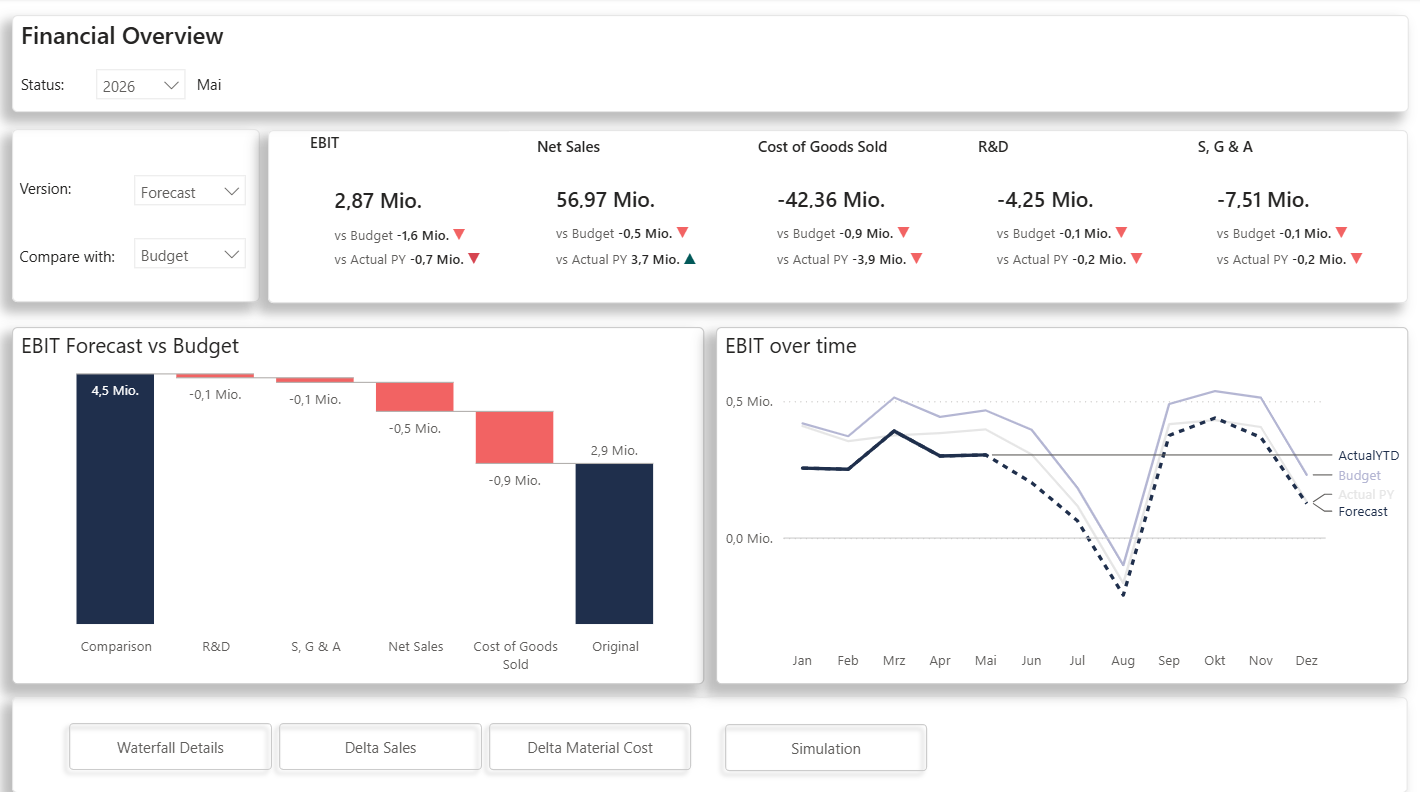

The page's visual inventory and layout, read from the dashboard file:
{"tool":"powerbi","page":{"name":"Financial Overview","canvas":[1280,720],"ordinal":0},"visuals":[{"type":"textbox","title":"Financial Overview","box":[15,15,1249.9,87.1],"z":0},{"type":"cardVisual","title":"Card Month","fields":{"Data":["fact_calculated.Last Actual Month Name"]},"box":[165.5,53.8,110,45],"z":1000},{"type":"slicer","title":"Slicer Year","fields":{"Values":["dim_date2.Date Hierarchie.Year"]},"box":[80.5,53.8,100,45],"z":2000},{"type":"shape","title":"Box Filter","box":[15.3,117.7,221.9,155],"z":3000},{"type":"textbox","title":"Text Version","box":[17,156.8,67,31.5],"z":4000},{"type":"textbox","title":"Text Comparison","box":[17,217.4,105,30.9],"z":5000},{"type":"slicer","title":"Slicer Compare","fields":{"Values":["Comparison Version.Version"]},"box":[115,205.2,120,45],"z":6000},{"type":"slicer","title":"Slicer Original Version","fields":{"Values":["Original Version.Version"]},"box":[115,148.3,120,45],"z":7000},{"type":"cardVisual","title":"Karte Financials","fields":{"Data":["Metrics.mOriginalAmount"],"Rows":["dim_pnl_structure.PnL_Level2_Name"]},"box":[460,119,820,180],"z":8000},{"type":"cardVisual","title":"EBIT","fields":{"Data":["Metrics.mOriginalAmount"]},"box":[282,120,188.1,180],"z":9000},{"type":"shape","title":"Box Cards","box":[244.9,118.6,1019.8,155],"z":10000},{"type":"waterfallChart","fields":{"Y":["Comparison Version.WF Value"],"Category":["helper_WaterfallCategory.Category"],"Breakdown":["dim_pnl_structure.PnL_Hierarchy.PnL_Level2_Name"]},"box":[15,294.5,620,320],"z":11000},{"type":"lineChart","fields":{"Y":["Metrics.mAmountPY","Metrics.mAmountBudget","Metrics.mAmountForecast","Metrics.mAmountActualYTD"],"Category":["dim_date2.Date Hierarchie.Month Name"]},"box":[644.8,294.5,620.1,320],"z":12000},{"type":"shape","title":"Box Navigation","box":[15,626.3,1249,86.7],"z":13000},{"type":"actionButton","title":"Waterfall Details","box":[57.1,640,199.7,60.1],"z":14000},{"type":"actionButton","title":"Delta Sales by PG","box":[245.6,640,199.7,60.1],"z":15000},{"type":"actionButton","title":"Delta Material Cost","box":[433.7,640,199,60.3],"z":16000},{"type":"actionButton","title":"Simulation","box":[644,640.9,199,60.3],"z":17000}]}

Visuals, with their boxes in screenshot pixels (x1, y1, x2, y2), scaled from the page's 1280x720 canvas onto the 1420x792 screenshot:
"Financial Overview" textbox: bbox(17, 16, 1403, 112)
"Card Month" cardVisual: bbox(184, 59, 306, 109)
"Slicer Year" slicer: bbox(89, 59, 200, 109)
"Box Filter" shape: bbox(17, 129, 263, 300)
"Text Version" textbox: bbox(19, 172, 93, 207)
"Text Comparison" textbox: bbox(19, 239, 135, 273)
"Slicer Compare" slicer: bbox(128, 226, 261, 275)
"Slicer Original Version" slicer: bbox(128, 163, 261, 213)
"Karte Financials" cardVisual: bbox(510, 131, 1419, 329)
"EBIT" cardVisual: bbox(313, 132, 522, 330)
"Box Cards" shape: bbox(272, 130, 1403, 301)
waterfallChart - Comparison Version.WF Value x helper_WaterfallCategory.Category: bbox(17, 324, 704, 676)
lineChart - Metrics.mAmountPY x Metrics.mAmountBudget: bbox(715, 324, 1403, 676)
"Box Navigation" shape: bbox(17, 689, 1402, 784)
"Waterfall Details" actionButton: bbox(63, 704, 285, 770)
"Delta Sales by PG" actionButton: bbox(272, 704, 494, 770)
"Delta Material Cost" actionButton: bbox(481, 704, 702, 770)
"Simulation" actionButton: bbox(714, 705, 935, 771)
